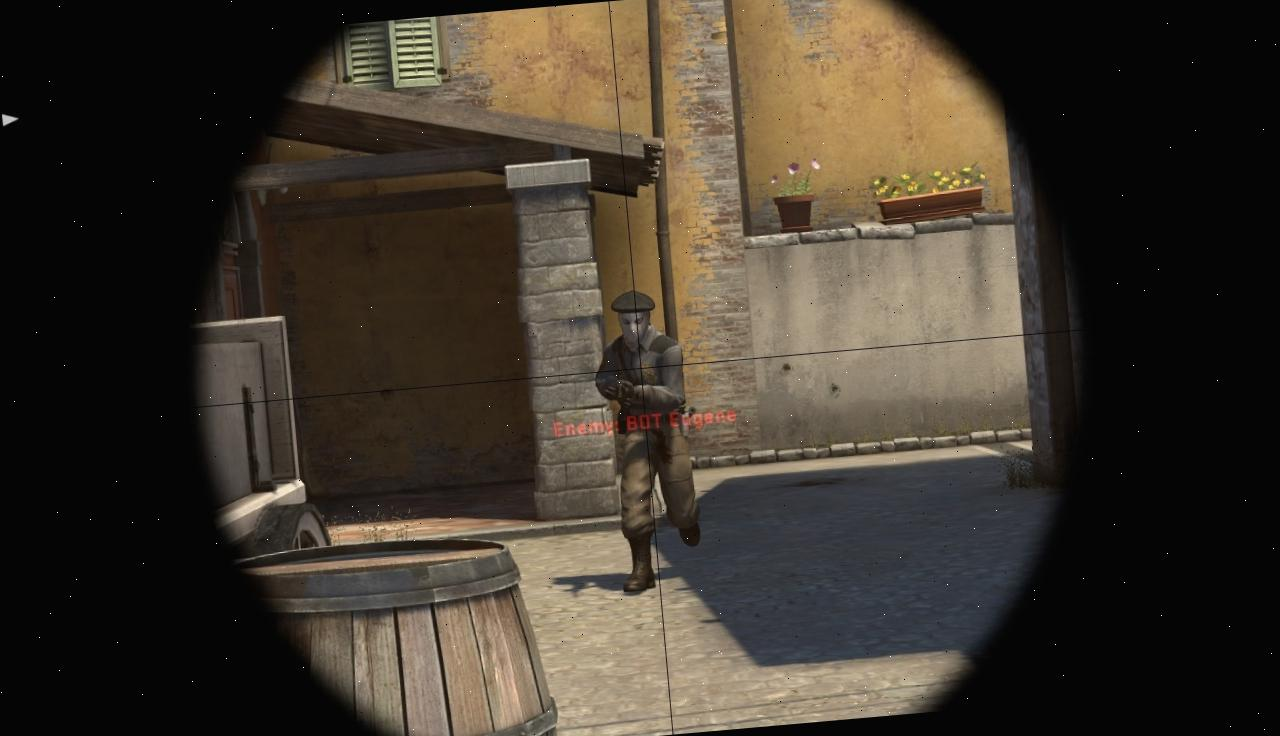tt: (602, 289, 702, 588)
tthead: (616, 292, 652, 344)
